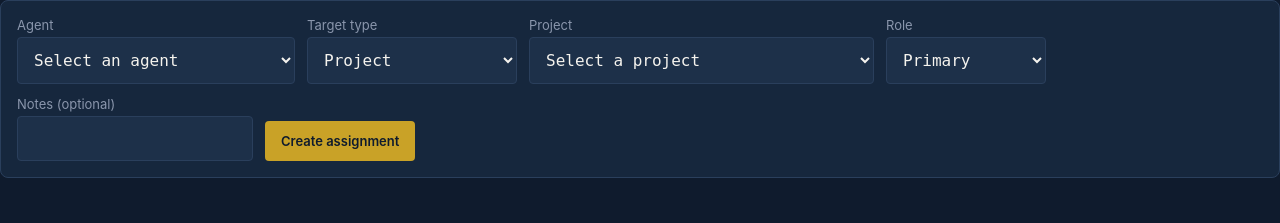
Scenario: CreateAssignmentForm › surfaces a server-side error rather than clearing the form
Select "AG-001 — Jane Doe Realty" in the dropdown labelled "Agent": (156, 60) [17,37,295,84]
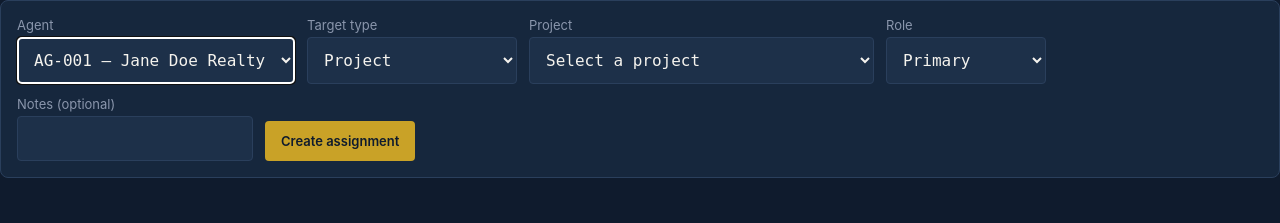
Select "PRJ-001 — Lekki Gardens Phase 1" in the dropdown labelled "Project": (702, 60) [529,37,874,84]
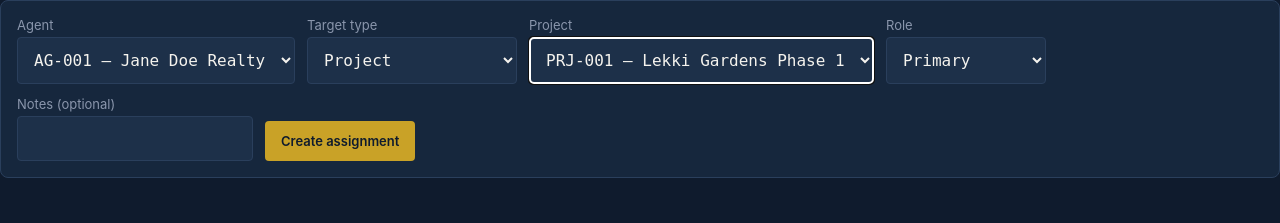
Click the button "Create assignment": (340, 141) [265,121,415,161]
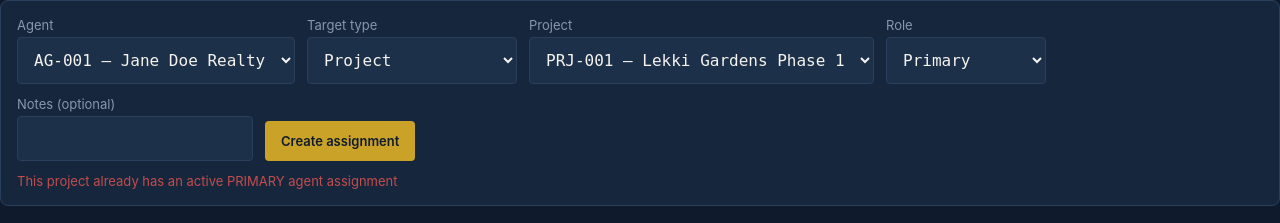
Check: the text "This project already has an active PRIMARY agent assignment" is shown, box [17,173,398,189]
